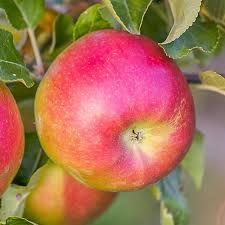Apple: (33, 30, 196, 192)
